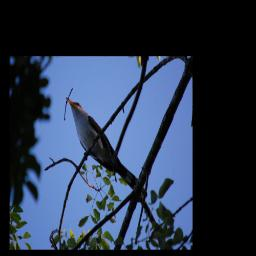Cuckoo: (64, 95, 138, 187)
